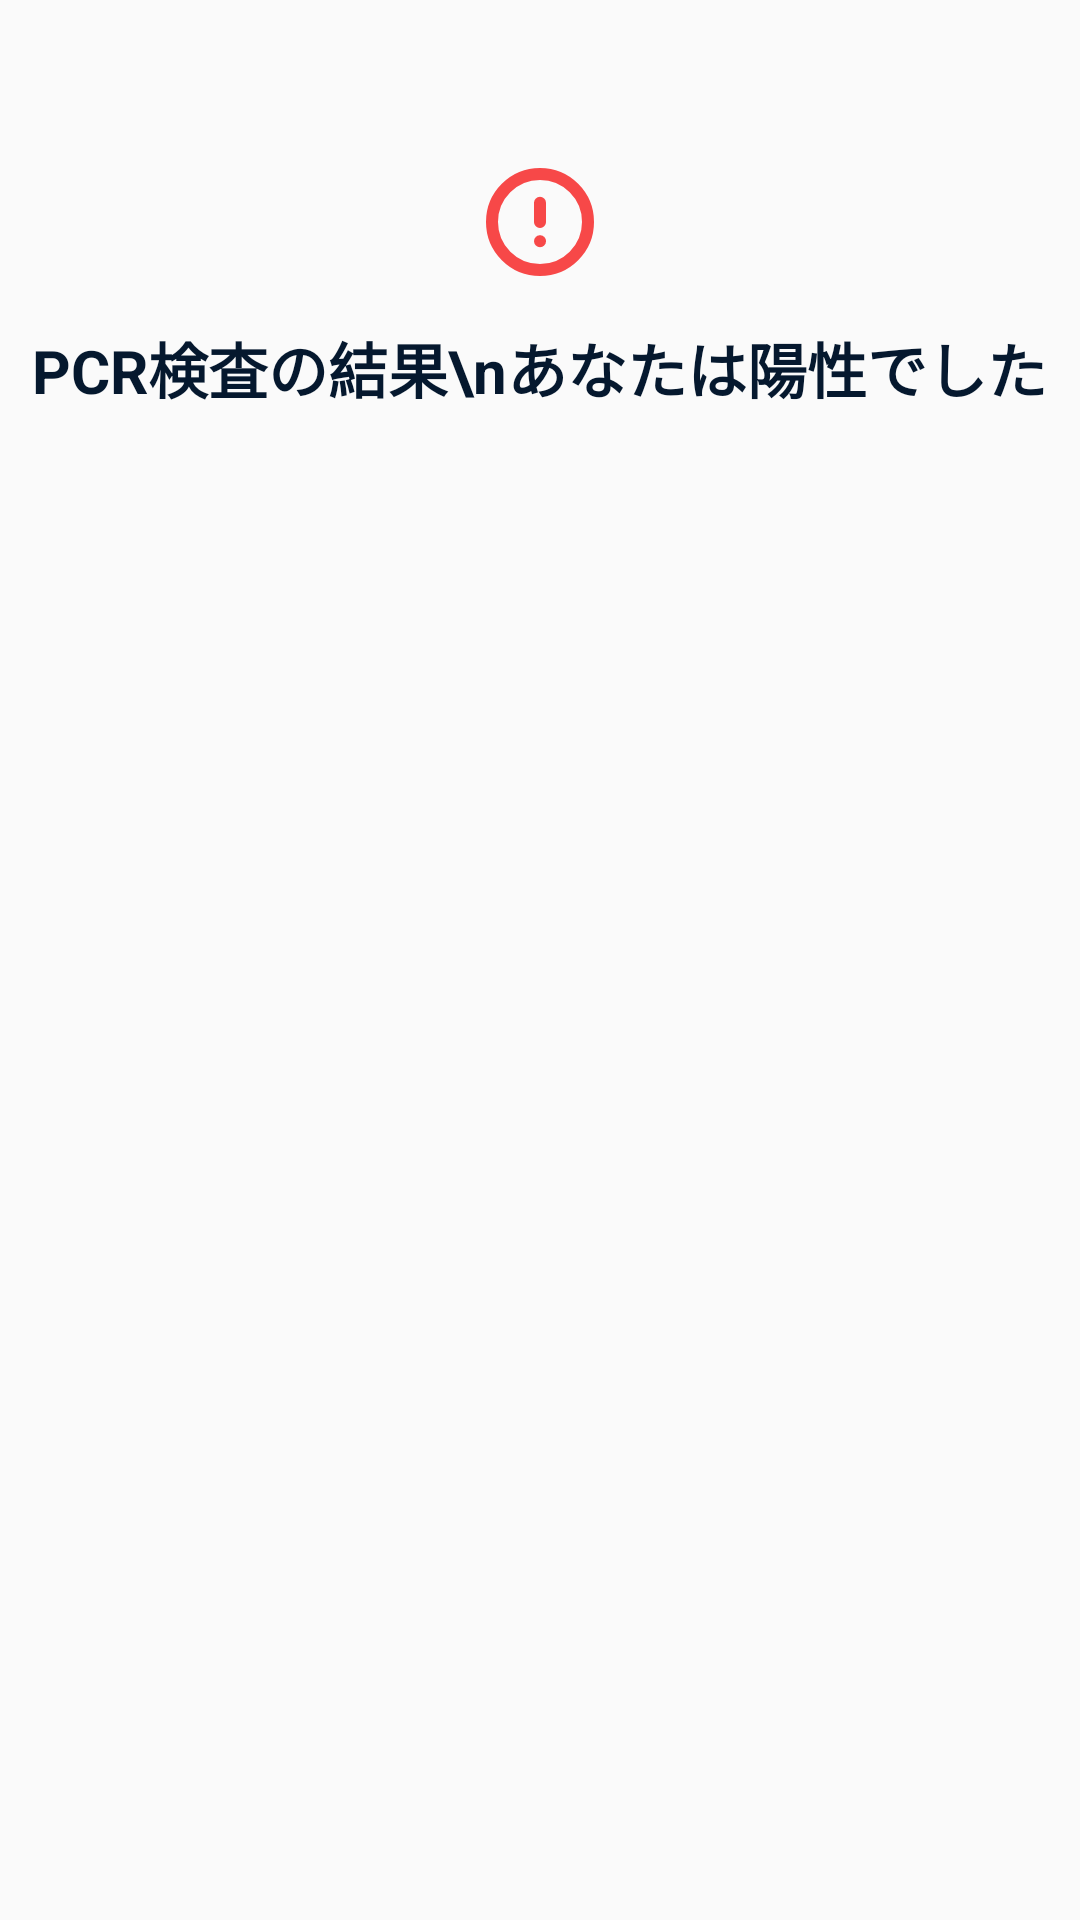

Named icons in this screenshot (1080w x 1920h) and their centers, (x,y):
alert circle: (540,222)
